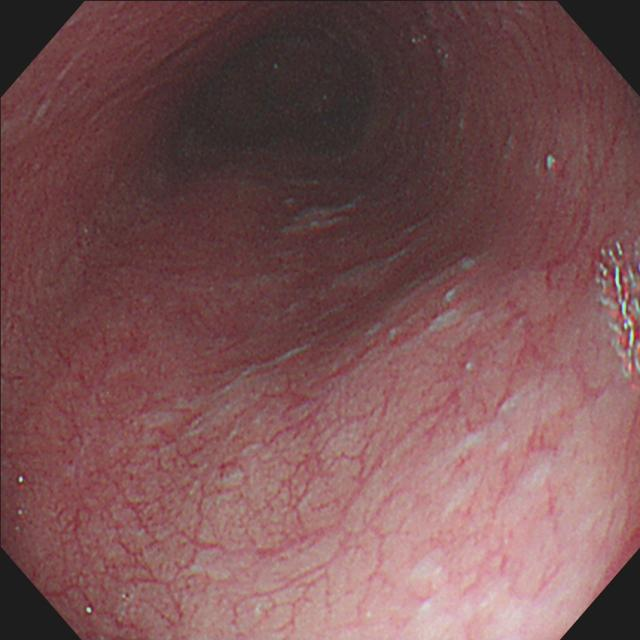E: (191, 24, 371, 158)
J: (281, 195, 365, 235), (432, 251, 490, 304), (333, 249, 408, 285)
T: (596, 234, 640, 393)
